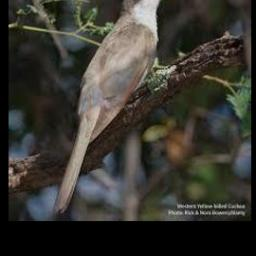Cuckoo: (53, 0, 182, 213)
